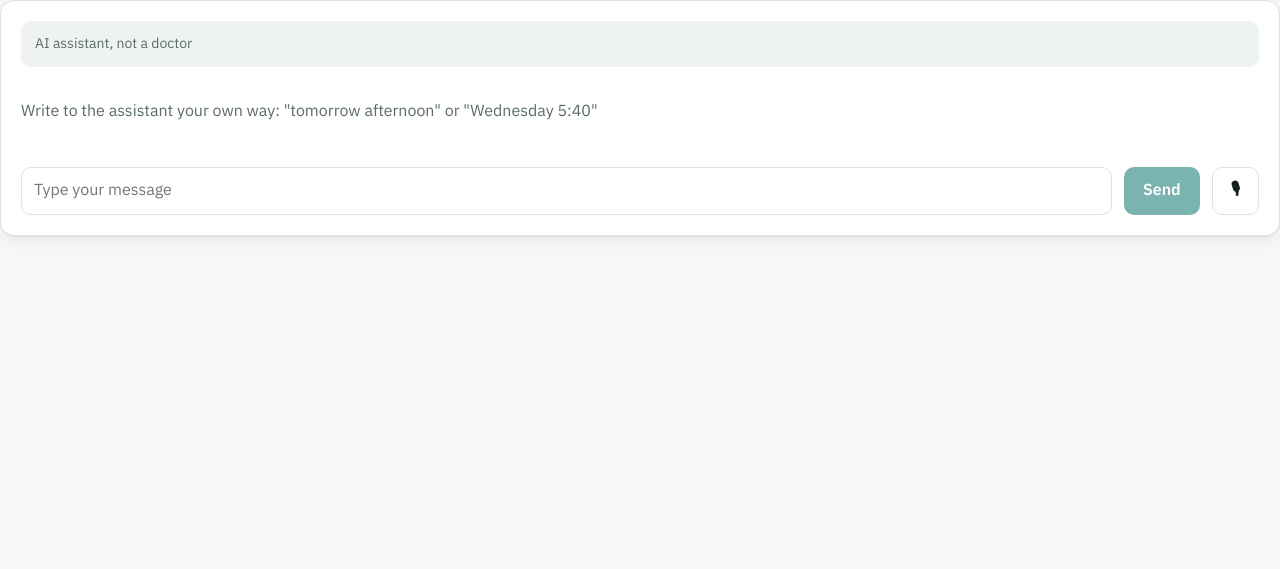
Test: the chat panel › shows the reply with the time the assistant held, and confirms it in place
The image size is (1280, 569).
Check: the text "AI assistant, not a doctor" is shown, box [21,21,1259,67]
Step 1. Type "Wednesday 5:40" into the field labelled "Type your message" → x=566, y=191, box [21,167,1112,215]
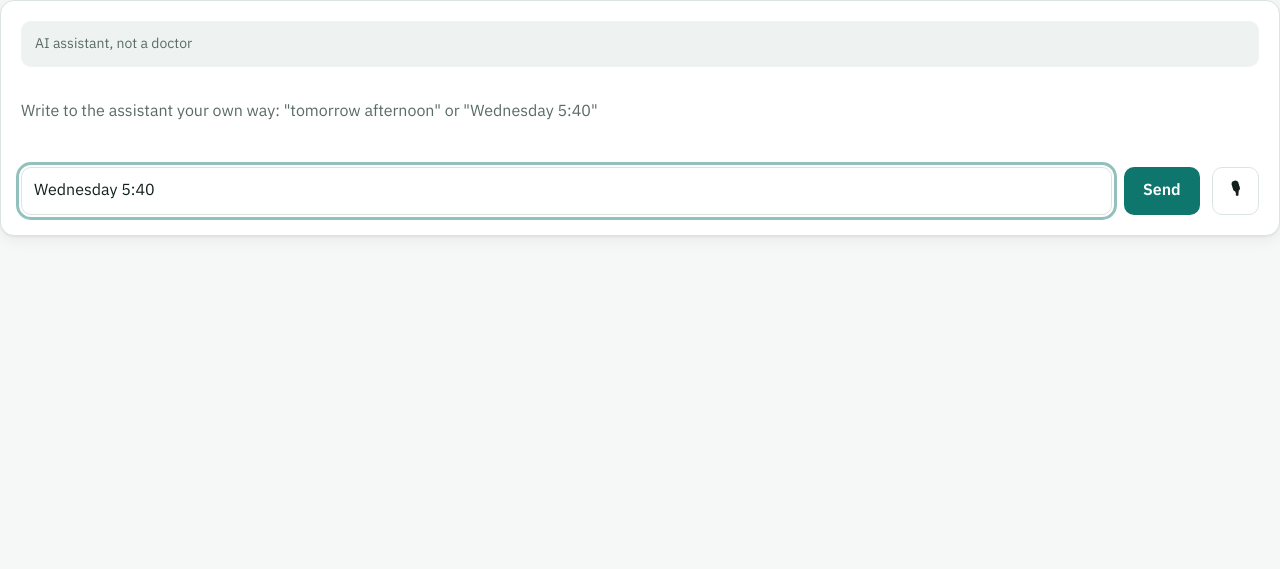
Step 2. Click the button "Send" → x=1162, y=191, box [1124,167,1200,215]
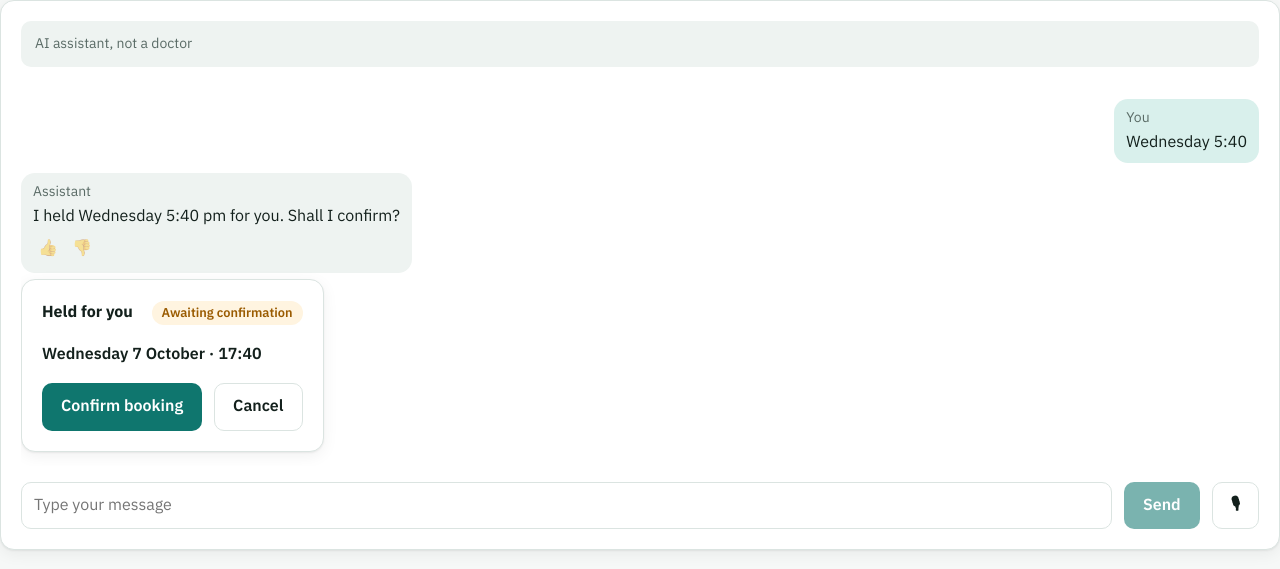
Check: the text "I held Wednesday 5:40 pm for you. Shall I confirm?" is shown, box [33,204,400,229]
Check: the text "Wednesday 5:40" is shown, box [1126,130,1247,155]
Check: the text "Held for you" is shown, box [42,300,133,326]
Step 3. Click the button "Confirm booking" → x=122, y=407, box [42,383,202,431]
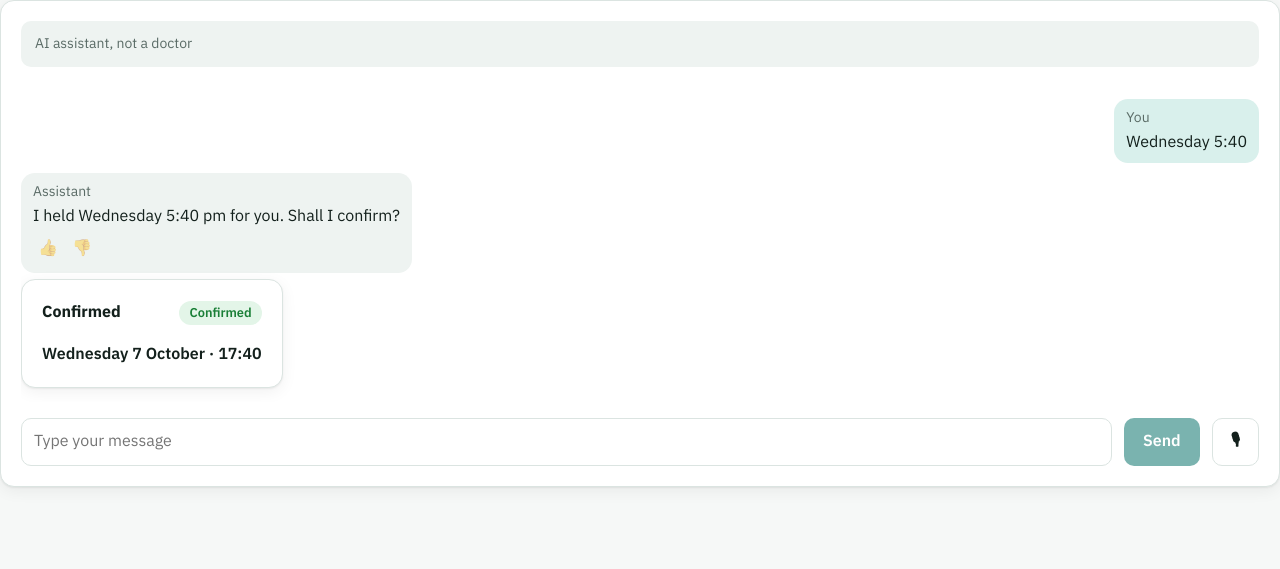
Check: the 2nd text "Confirmed" is shown, box [180,300,262,325]
